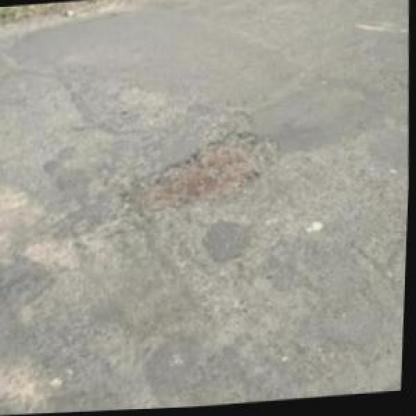pothole: (130, 129, 286, 220)
